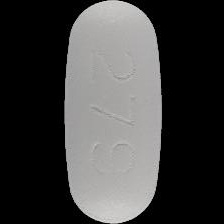54868-6277: (0, 0, 224, 224)
